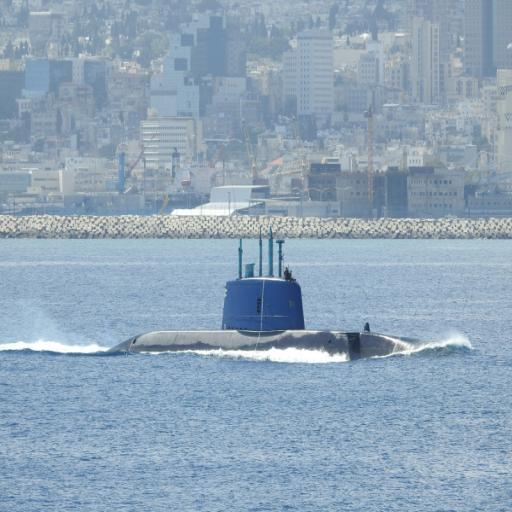submarine: (104, 224, 422, 357)
